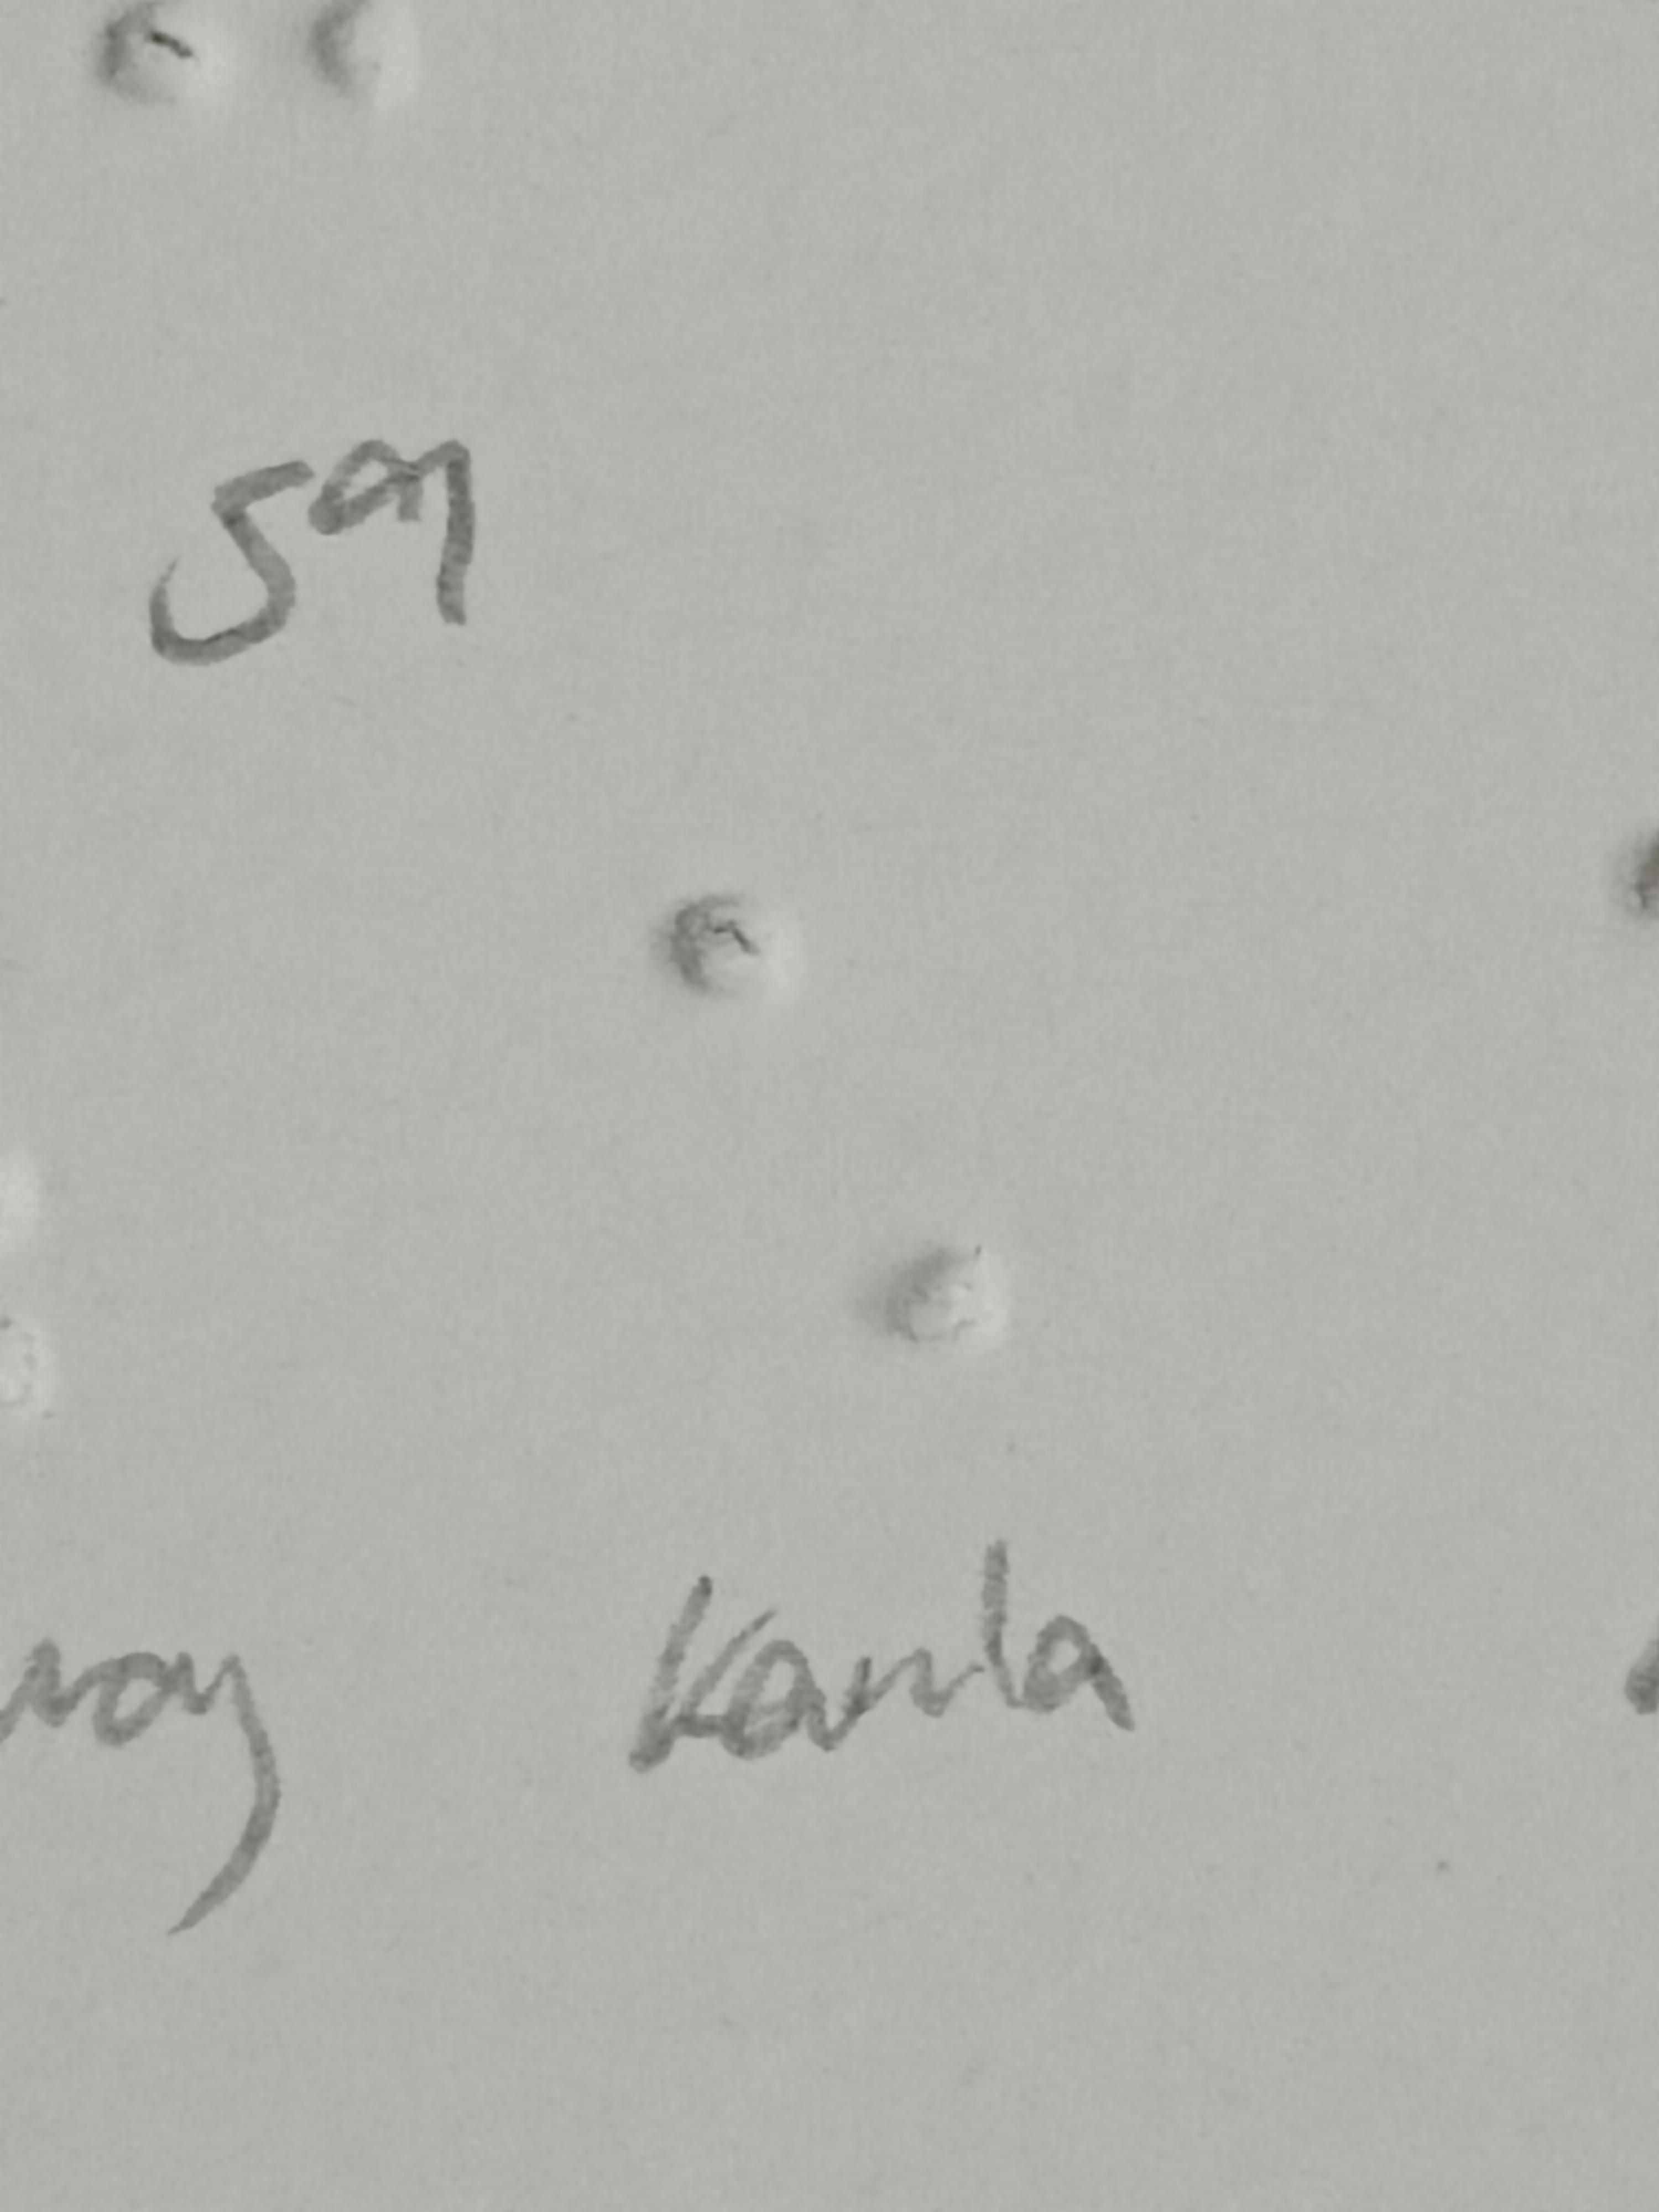one_cell_non_alphabet_kanila: (671, 880, 1000, 1374)
